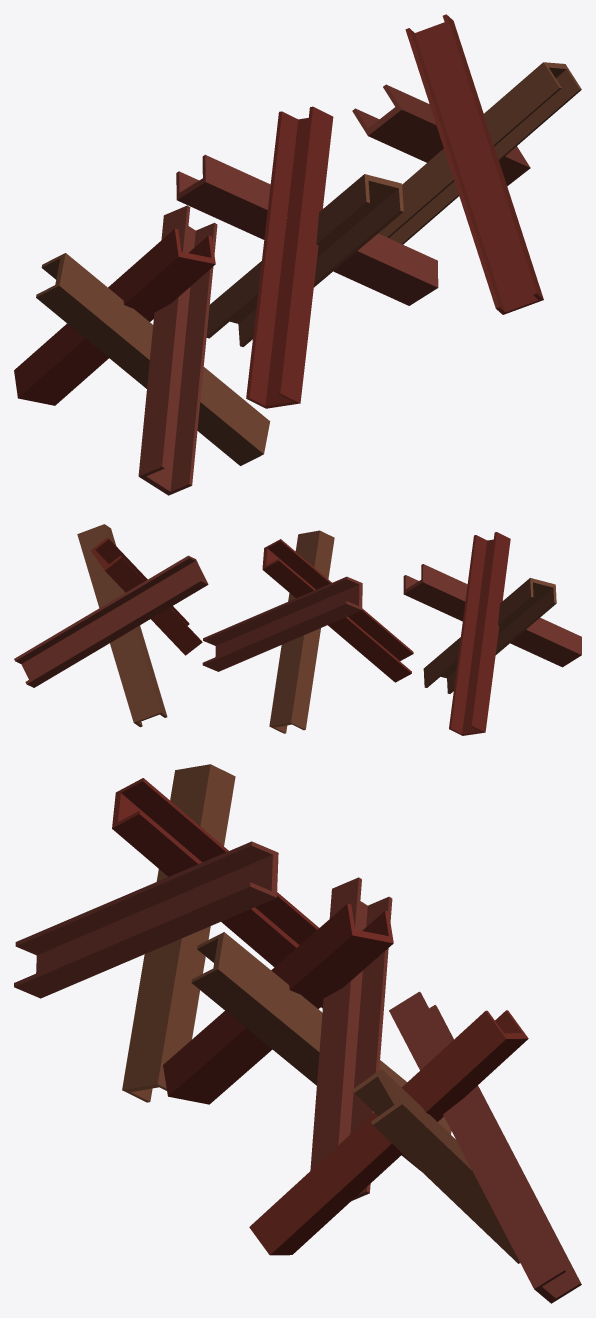
The model's file is Tank Spike v1.2.fbx.
3 renders of one model, top to bottom at view 1: azimuth 30°, elevation 25°; view 2: azimuth 150°, elevation 25°; view 3: azimuth 270°, elevation 25°, orthographic. The views are drawn at different scales.
Visible parts, largest first — view 1: Plane.005, Plane.008, Plane.001, Plane, Plane.002, Plane.004, Plane.006, Plane.003, Plane.007; view 2: Plane.002, Plane.007, Plane.004, Plane.005, Plane.006, Plane.003, Plane.001, Plane, Plane.008; view 3: Plane.001, Plane.008, Plane.007, Plane, Plane.005, Plane.004, Plane.002, Plane.003, Plane.006.
Boxes of the visible parts, bbox=[...] form: Plane.005: bbox=[246, 106, 333, 408]; Plane.008: bbox=[405, 14, 543, 314]; Plane.001: bbox=[138, 205, 217, 495]; Plane: bbox=[36, 253, 270, 465]; Plane.002: bbox=[14, 229, 215, 405]; Plane.004: bbox=[176, 154, 438, 305]; Plane.006: bbox=[378, 62, 581, 244]; Plane.003: bbox=[206, 174, 403, 346]; Plane.007: bbox=[352, 84, 530, 185]; Plane.002: bbox=[449, 532, 510, 735]; Plane.007: bbox=[14, 555, 208, 687]; Plane.004: bbox=[202, 576, 362, 671]; Plane.005: bbox=[262, 539, 413, 682]; Plane.006: bbox=[77, 524, 167, 727]; Plane.003: bbox=[269, 530, 334, 733]; Plane.001: bbox=[403, 564, 581, 667]; Plane: bbox=[423, 578, 556, 693]; Plane.008: bbox=[90, 537, 202, 655]; Plane.001: bbox=[14, 841, 278, 998]; Plane.008: bbox=[249, 1010, 528, 1255]; Plane.007: bbox=[389, 991, 581, 1303]; Plane: bbox=[122, 764, 235, 1102]; Plane.005: bbox=[163, 903, 393, 1104]; Plane.004: bbox=[310, 877, 392, 1200]; Plane.002: bbox=[112, 778, 322, 1008]; Plane.003: bbox=[191, 932, 451, 1170]; Plane.006: bbox=[352, 1069, 519, 1263].
Bounding box in the file's own units: 355 × 135 × 241.
